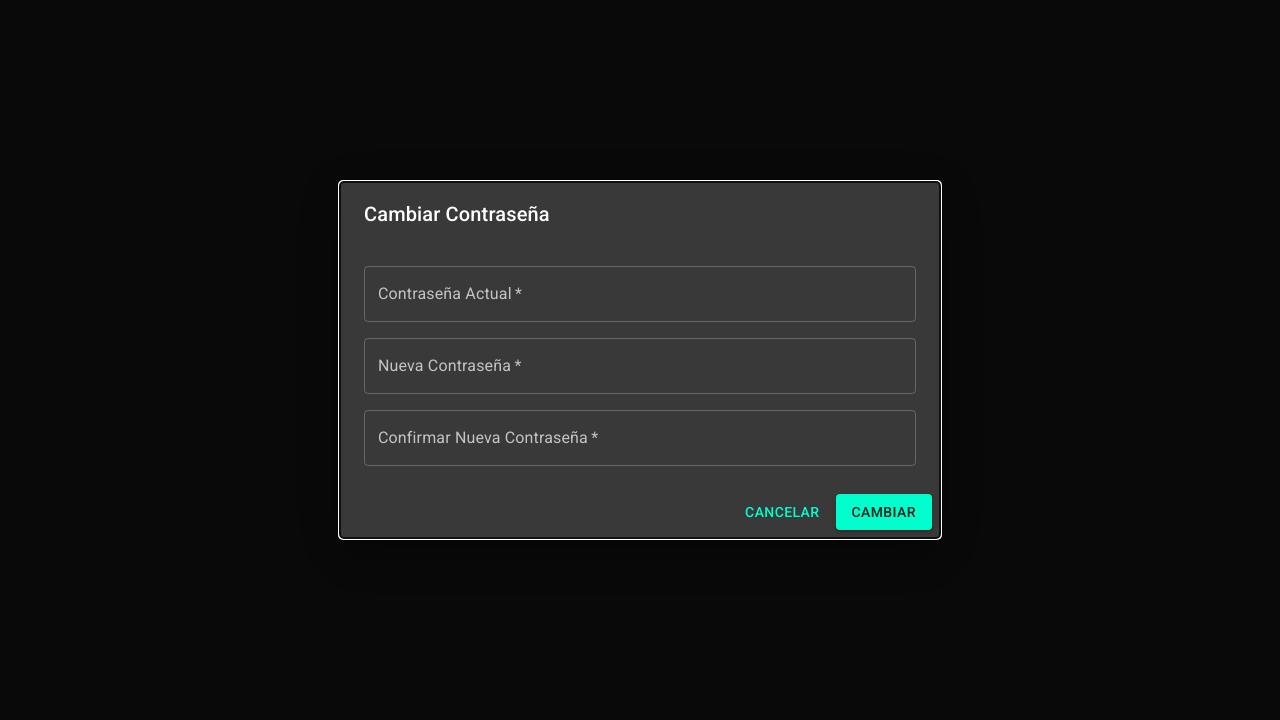
Test case: ChangePasswordDialog › handles api error correctly
The width and height of the screenshot is (1280, 720).
Type "wrong" into the password field labelled "Contraseña Actual *" at (640, 294), box x1=364 y1=266 x2=916 y2=322
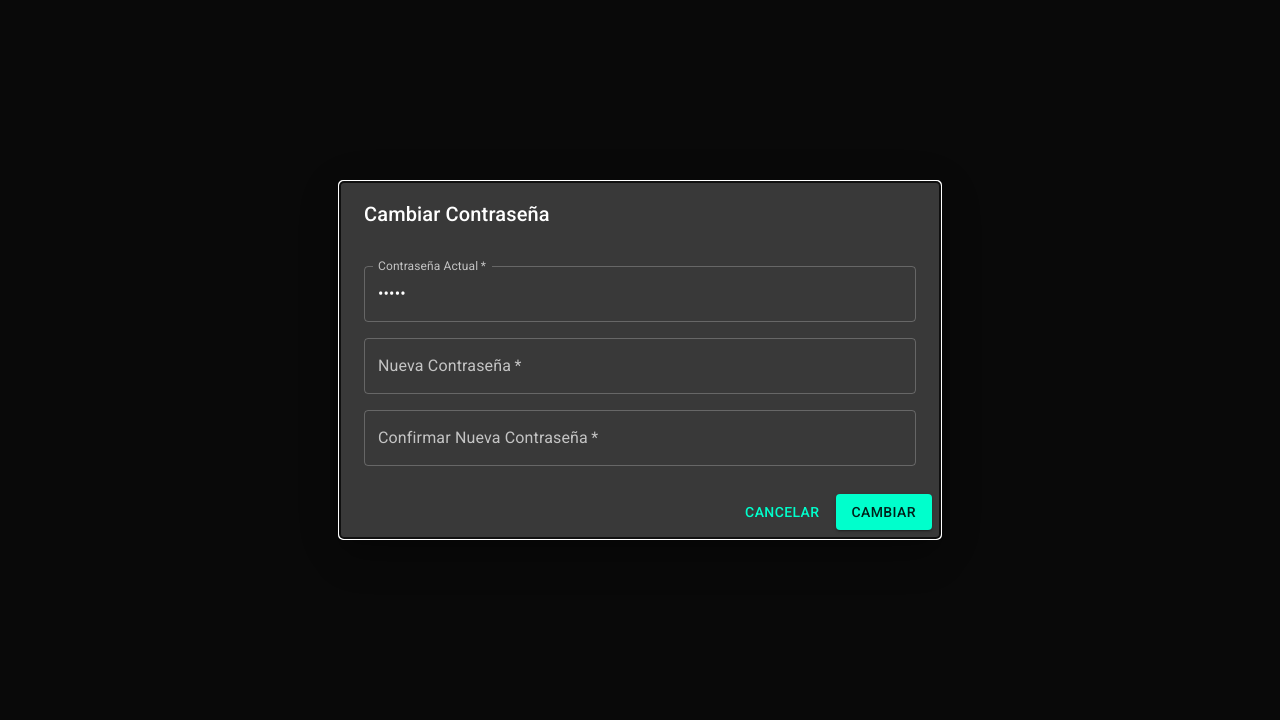
Type "newpass" into the password field labelled "Nueva Contraseña *" at (640, 366), box x1=364 y1=338 x2=916 y2=394
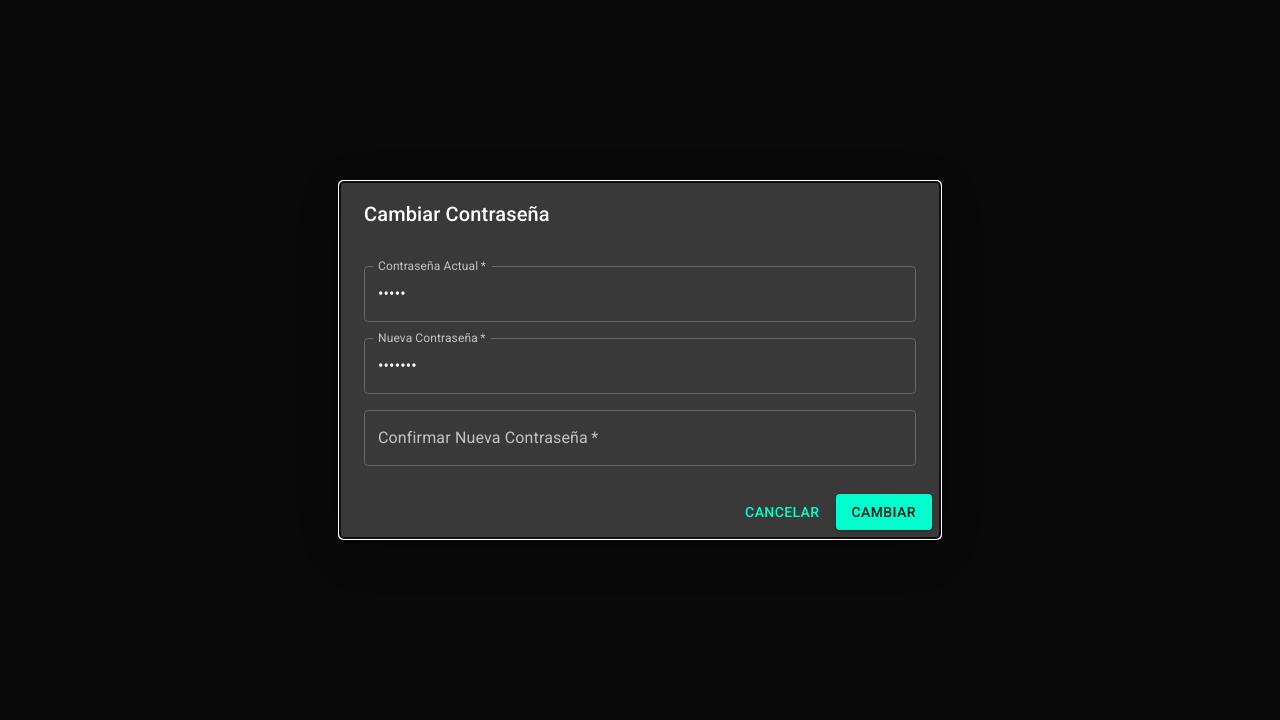
Type "newpass" into the password field labelled "Confirmar Nueva Contraseña *" at (640, 438), box x1=364 y1=410 x2=916 y2=466
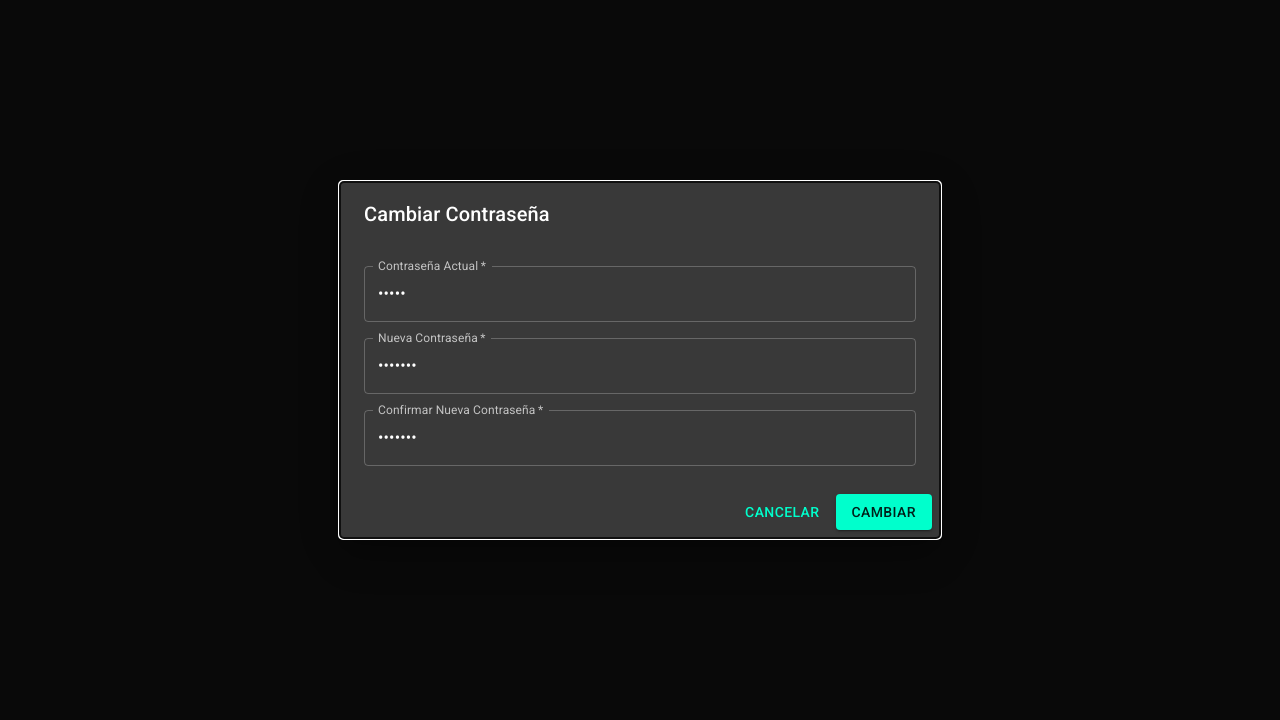
Click the button "Cambiar" at (884, 512), box x1=836 y1=494 x2=932 y2=530
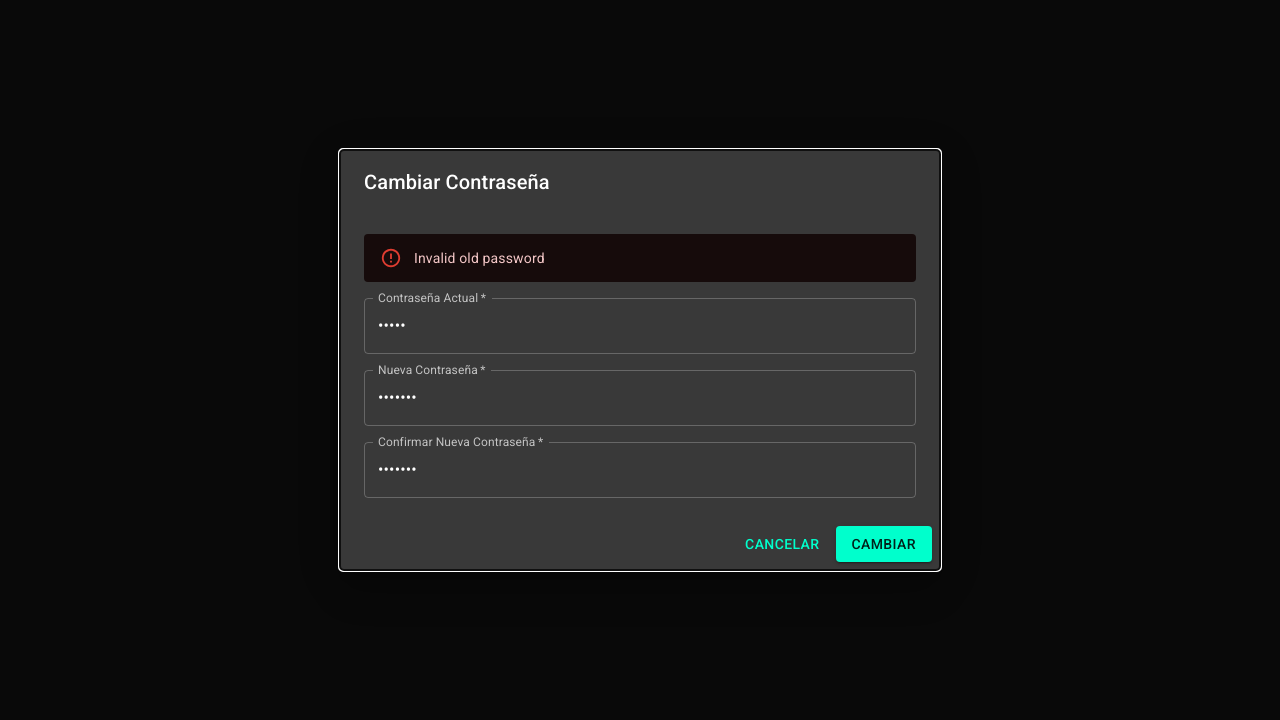
expect the text "Invalid old password" is shown: met, box x1=414 y1=250 x2=545 y2=266
